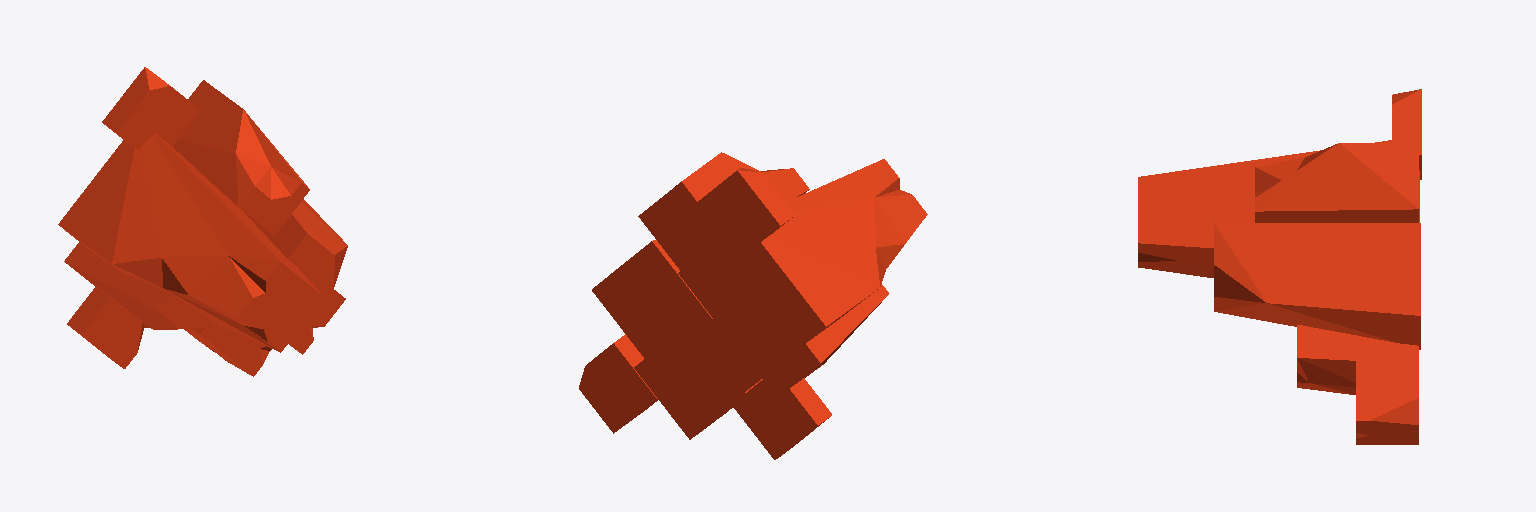
Rendered from rock2.obj.
3 views of the same model, side by side, from view 1: azimuth 30°, elevation 25°; view 2: azimuth 150°, elevation 25°; view 3: azimuth 270°, elevation 25° (orthographic).
Parts seen in each view (by area): view 1: Cube.004_Cube.005; view 2: Cube.004_Cube.005; view 3: Cube.004_Cube.005.
Part boxes in pixels (left/top/right/bottom): Cube.004_Cube.005: left=58, top=67, right=347, bottom=376; Cube.004_Cube.005: left=579, top=152, right=927, bottom=459; Cube.004_Cube.005: left=1138, top=89, right=1421, bottom=444.
Bounding box in the file's own units: 3.28 × 3.61 × 3.14.